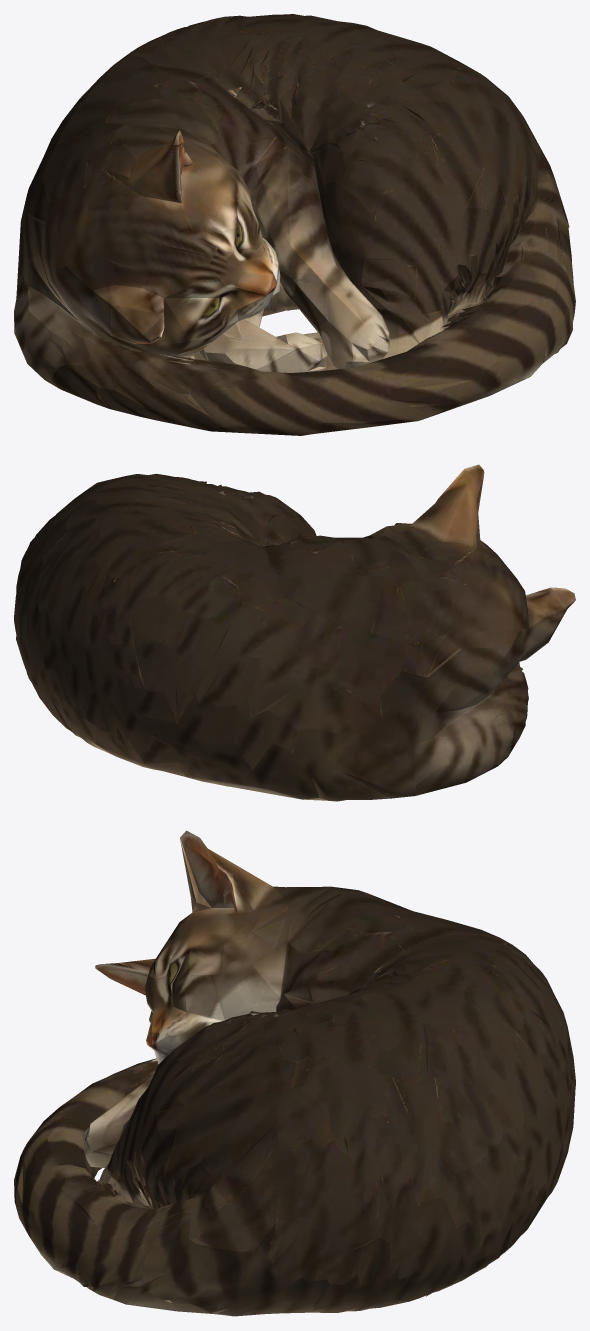
The model's file is cat-sleeping.glb.
3 renders of one model, top to bottom at view 1: azimuth 30°, elevation 25°; view 2: azimuth 150°, elevation 25°; view 3: azimuth 270°, elevation 25°, orthographic. The views are drawn at different scales.
Visible parts, largest first — view 1: cat-sleeping; view 2: cat-sleeping; view 3: cat-sleeping.
Boxes of the visible parts, x1,y1,x2,y2 form: cat-sleeping: (14, 14, 575, 435); cat-sleeping: (14, 464, 575, 801); cat-sleeping: (14, 830, 575, 1316).
Bounding box in the file's own units: 0.45 × 0.2319 × 0.4114.
Materials: 1 (1 with a texture image).
